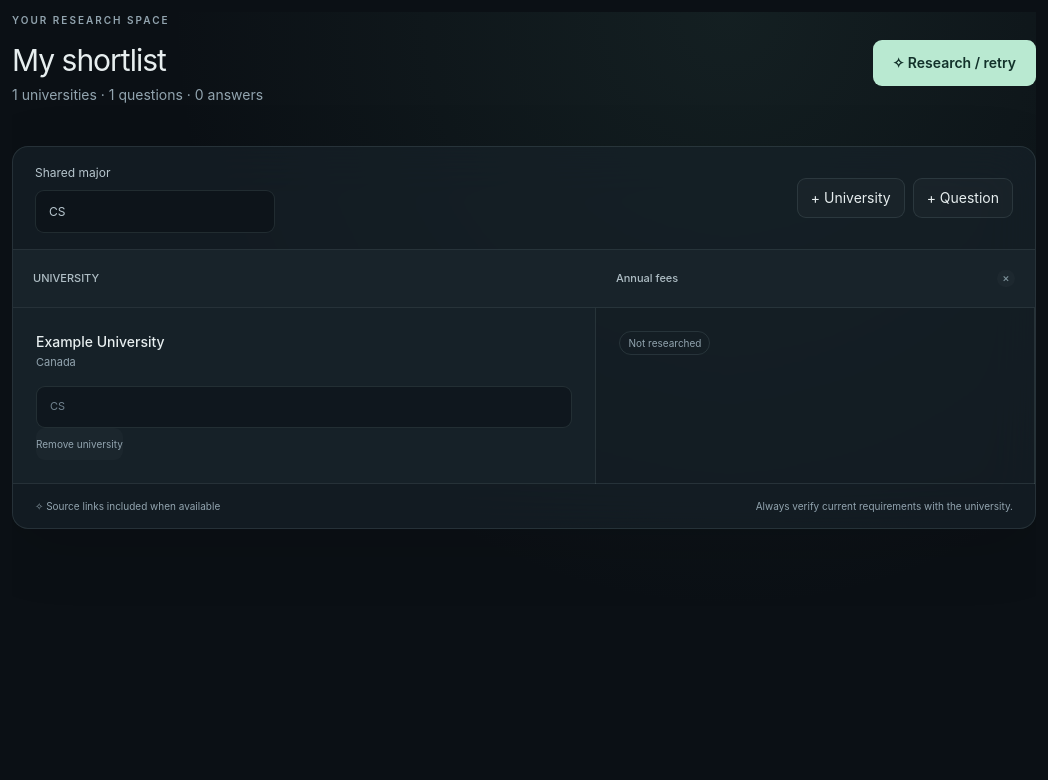
Test: shows an actionable error when the agent endpoint is unconfigured
What coordinates should you click on to do the following:
click the button "✧ Research / retry"
I would click on:
 (954, 63)
Its box is 872,40 -> 1036,86.
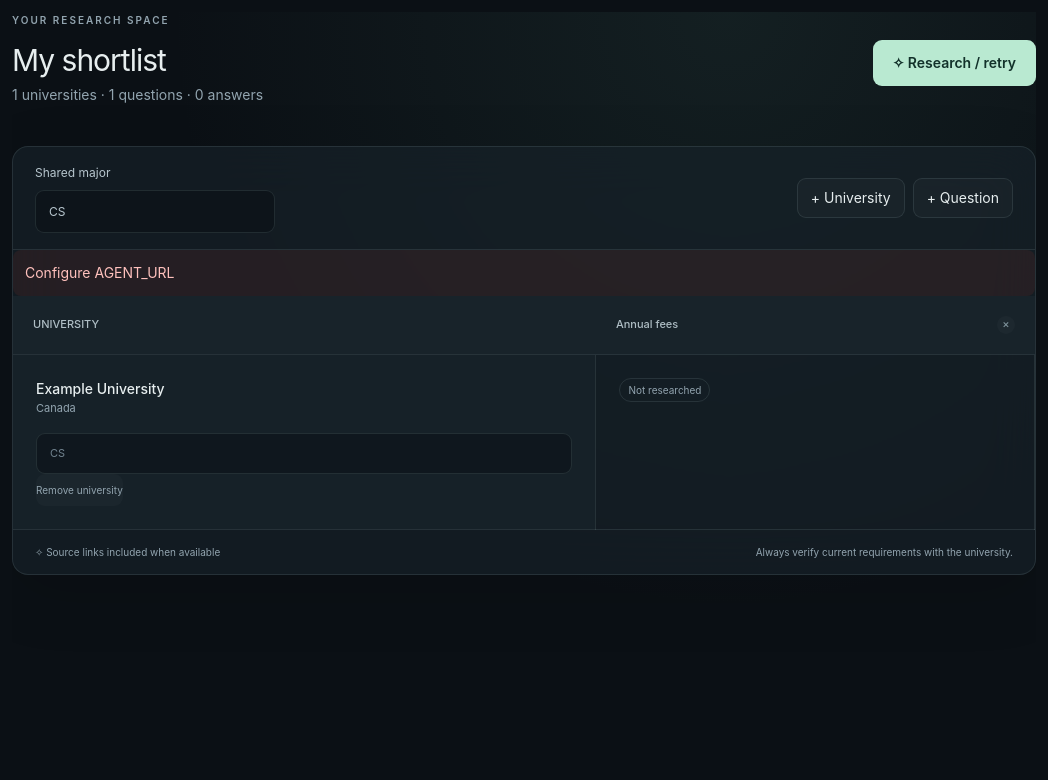
Expected: the message reads "Configure AGENT_URL", 25,264 -> 174,281
